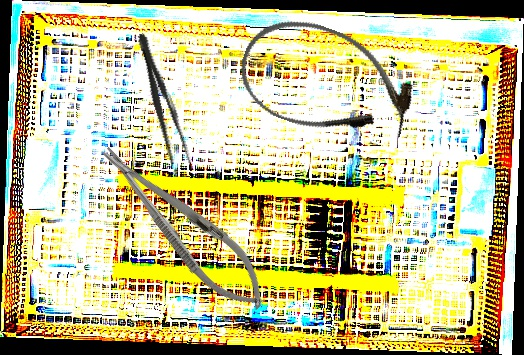Cannula: (227, 4, 427, 159)
Dressing Forceps: (129, 30, 197, 175)
Needle Holder: (87, 130, 281, 324)
